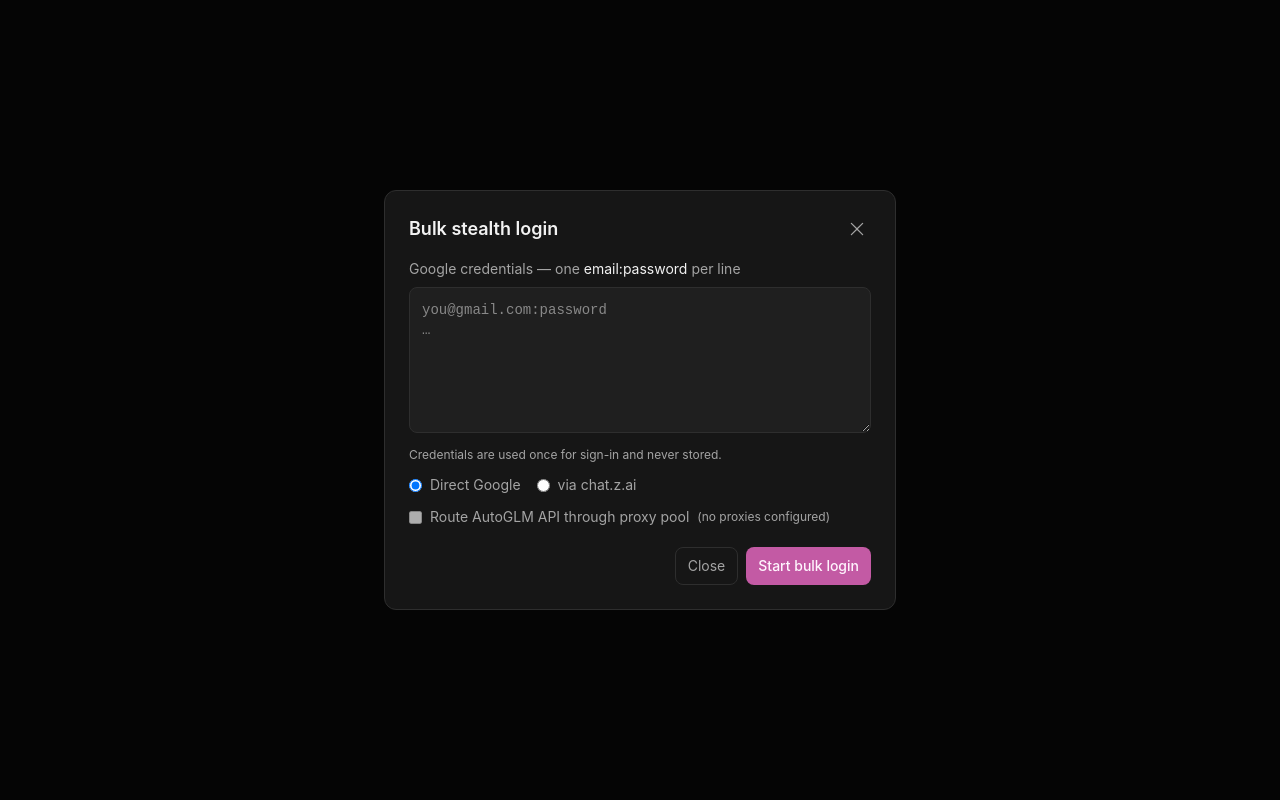
Test: renders the sidecar's per-action steps as a live terminal
Type "a@x.com:pw" into the text box labelled "Google credentials — one email:password per line" at (640, 360), box left=409, top=287, right=871, bottom=433
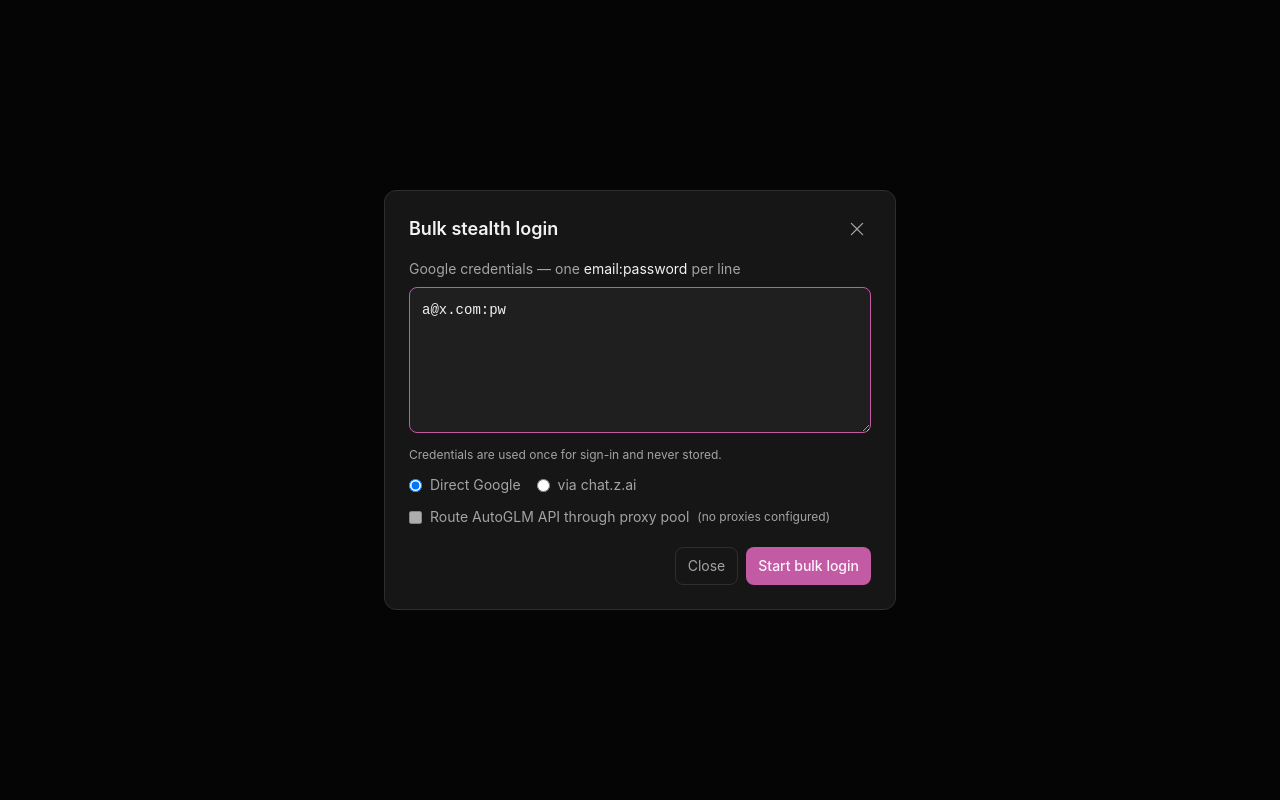
Click the button "Start bulk login" at (809, 566), box left=746, top=547, right=871, bottom=585
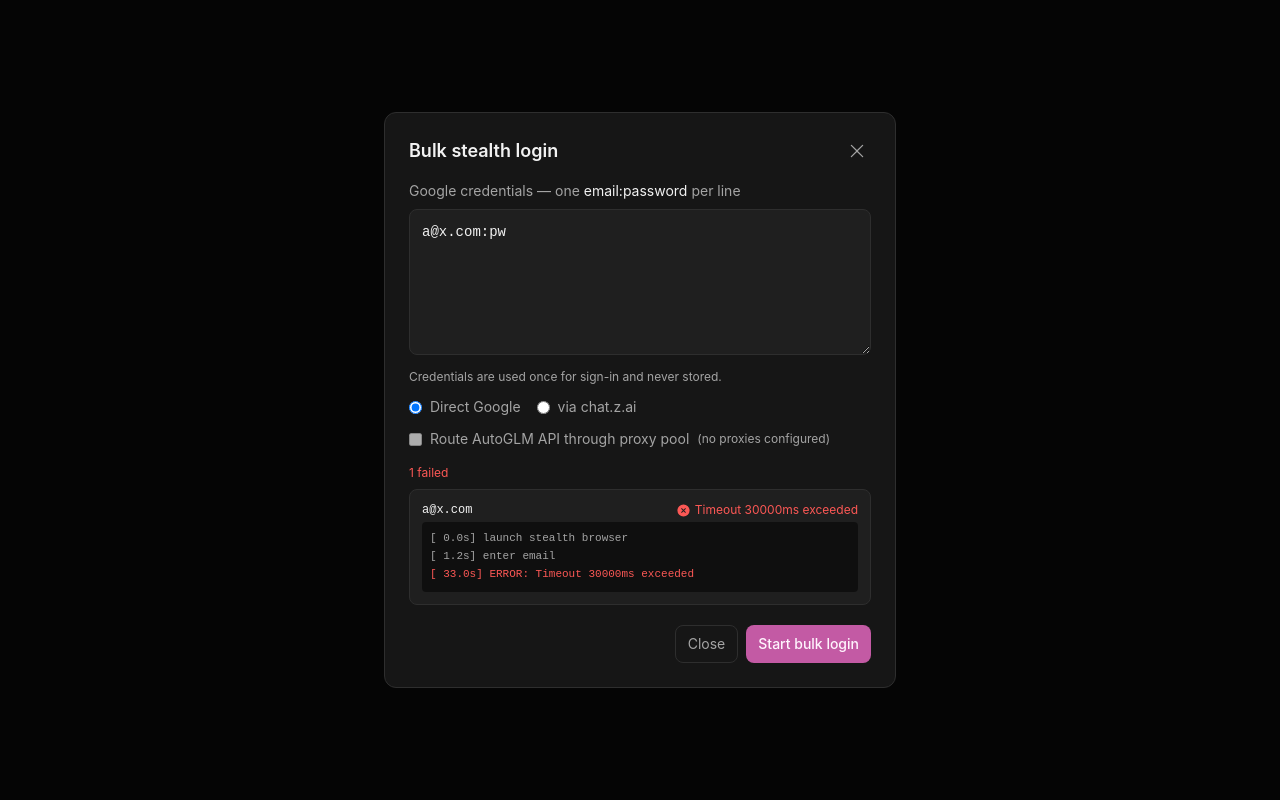
Expected: the text "[ 1.2s] enter email" is shown, left=430, top=550, right=555, bottom=562
Expected: the text "[ 0.0s] launch stealth browser" is shown, left=430, top=532, right=628, bottom=544
Expected: the text "[ 33.0s] ERROR: Timeout 30000ms exceeded" is shown, left=430, top=568, right=694, bottom=580
